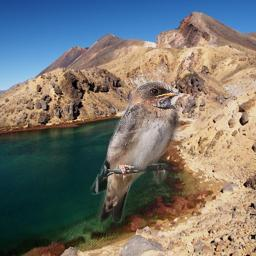Swallow: (90, 80, 181, 223)
